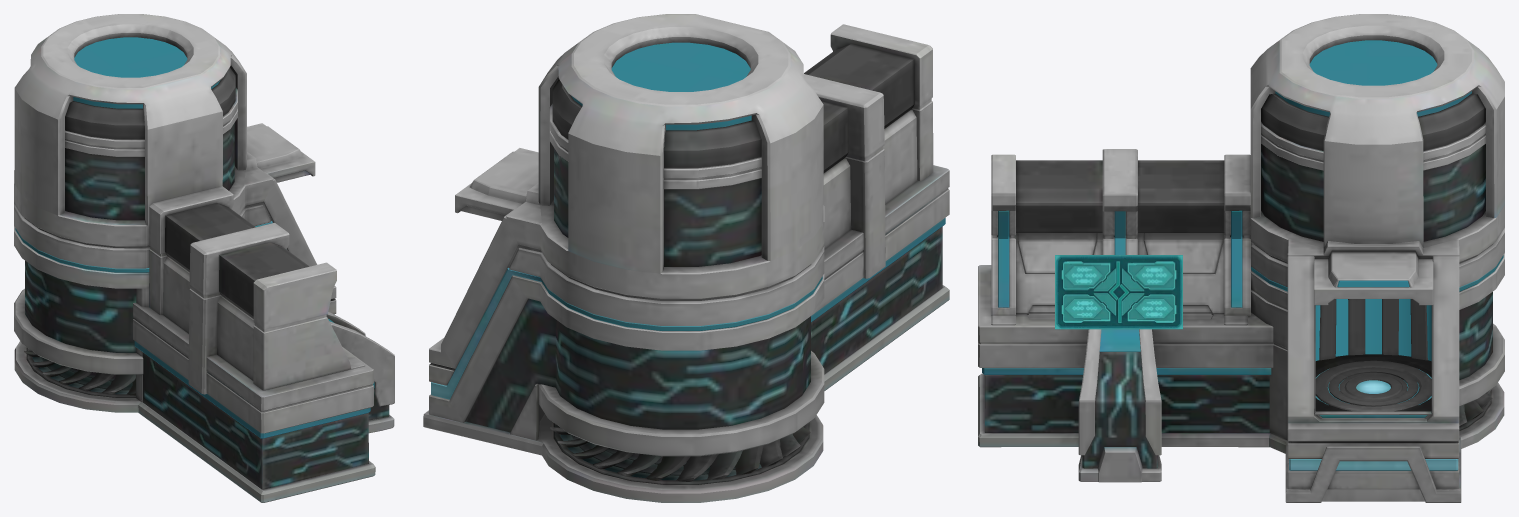
Rendered from SK_ArtifactRecycler_7f015e.glb.
3 renders of one model, left to right at view 1: azimuth 30°, elevation 25°; view 2: azimuth 150°, elevation 25°; view 3: azimuth 270°, elevation 25°, orthographic. The views are drawn at different scales.
Bounding box in the file's own units: 2.19 × 2.41 × 3.26.
3 materials, 3 textured.
